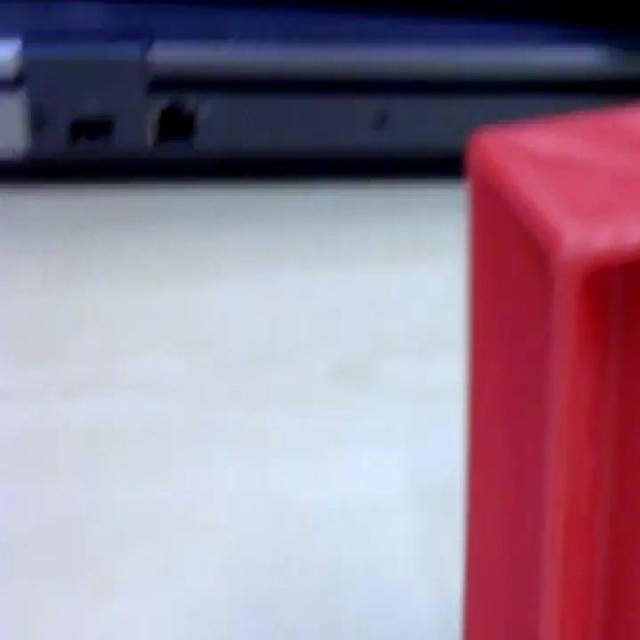red_block: (462, 97, 638, 636)
